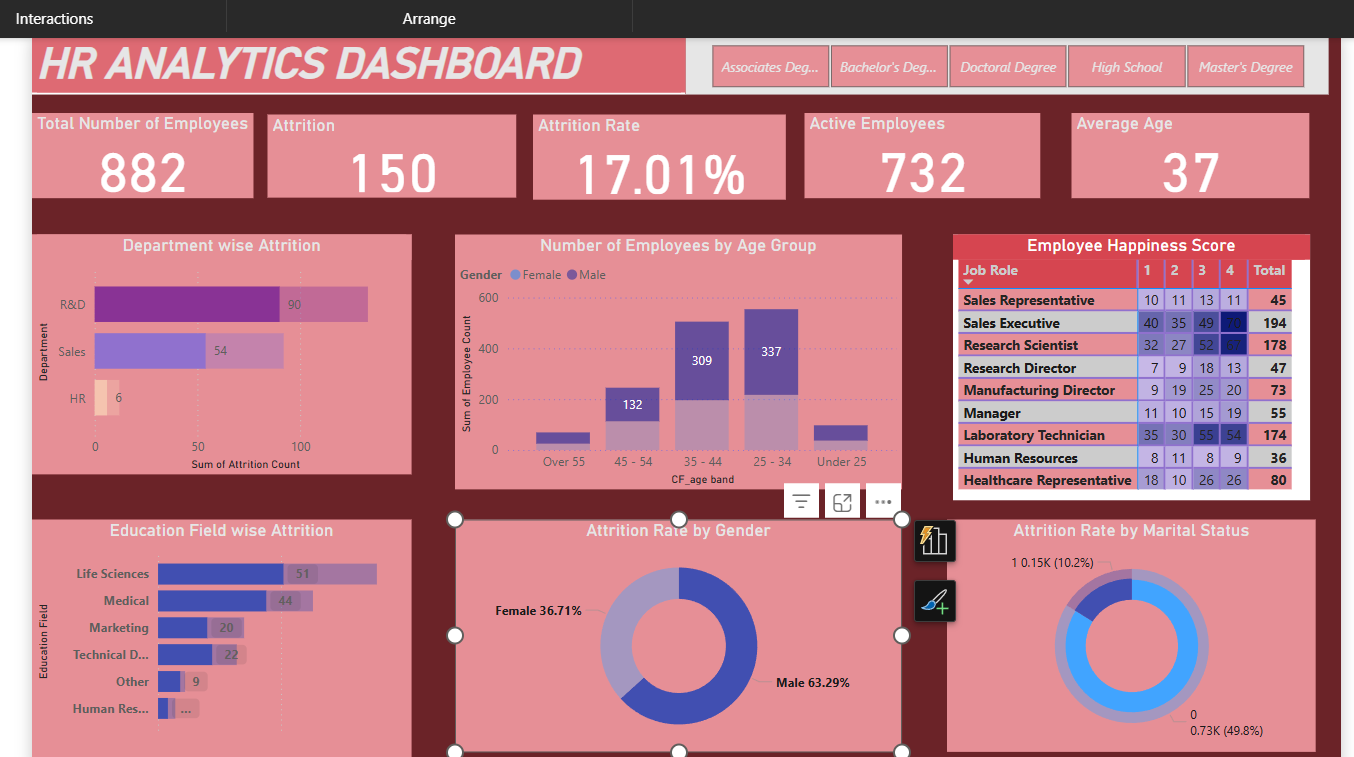

The page's visual inventory and layout, read from the dashboard file:
{"tool":"powerbi","page":{"name":"Page 1","canvas":[1280,720],"ordinal":0},"visuals":[{"type":"card","title":"Total Number of Employees","fields":{"Values":["Sum(HR data.Employee Count)"]},"box":[0,72.9,216.7,83],"z":0},{"type":"card","title":"Attrition","fields":{"Values":["Sum(HR data.Attrition Count)"]},"box":[230.9,74.9,243,81],"z":1000},{"type":"card","title":"Attrition Rate","fields":{"Values":["HR data.Attrition Rate"]},"box":[490.1,74.9,247.1,83],"z":2000},{"type":"card","title":"Active Employees","fields":{"Values":["HR data.Active Employees"]},"box":[755.4,72.9,230.9,83],"z":3000},{"type":"card","title":"Average Age","fields":{"Values":["Avg(HR data.Age)"]},"box":[1016.7,72.9,232.9,83],"z":4000},{"type":"barChart","title":"Department wise Attrition","fields":{"Category":["HR data.Department"],"Y":["Sum(HR data.Attrition Count)"]},"box":[0,192.2,371.3,234.8],"z":5000},{"type":"columnChart","title":"Number of Employees by Age Group","fields":{"Category":["HR data.CF_age band"],"Y":["Sum(HR data.Employee Count)"],"Series":["HR data.Gender"]},"box":[413.8,192.2,437.3,249.5],"z":6000},{"type":"pivotTable","title":"Employee Happiness Score","fields":{"Rows":["HR data.Job Role"],"Columns":["HR data.Job Satisfaction"],"Values":["Sum(HR data.Employee Count)"]},"box":[901,192.2,349.2,259.7],"z":7000},{"type":"barChart","title":" Education Field wise Attrition","fields":{"Category":["HR data.Education Field"],"Y":["Sum(HR data.Attrition Count)"]},"box":[0,471,371.3,234.8],"z":8000},{"type":"donutChart","title":" Attrition Rate by Gender","fields":{"Category":["HR data.Gender"],"Y":["Sum(HR data.Attrition Count)"]},"box":[413.8,471,437.3,227.5],"z":8001},{"type":"donutChart","title":"Attrition Rate by Marital Status ","fields":{"Category":["HR data.Attrition Count"],"Y":["CountNonNull(HR data.Marital Status)"]},"box":[895.1,471,361,227.5],"z":8002},{"type":"textbox","title":"HR ANALYTICS DASHBOARD","box":[0,0,639.5,55.1],"z":8003},{"type":"slicer","fields":{"Values":["HR data.Education"]},"box":[639.5,0,628.5,55.1],"z":8004}]}

Visuals, with their boxes in screenshot pixels (x1, y1, x2, y2):
"Total Number of Employees" card: (42, 108, 259, 191)
"Attrition" card: (274, 110, 517, 191)
"Attrition Rate" card: (533, 110, 781, 193)
"Active Employees" card: (799, 108, 1030, 191)
"Average Age" card: (1061, 108, 1294, 191)
"Department wise Attrition" barChart: (42, 228, 414, 463)
"Number of Employees by Age Group" columnChart: (457, 228, 895, 478)
"Employee Happiness Score" pivotTable: (945, 228, 1294, 488)
" Education Field wise Attrition" barChart: (42, 507, 414, 742)
" Attrition Rate by Gender" donutChart: (457, 507, 895, 735)
"Attrition Rate by Marital Status " donutChart: (939, 507, 1300, 735)
"HR ANALYTICS DASHBOARD" textbox: (42, 35, 683, 90)
slicer - HR data.Education: (683, 35, 1312, 90)
